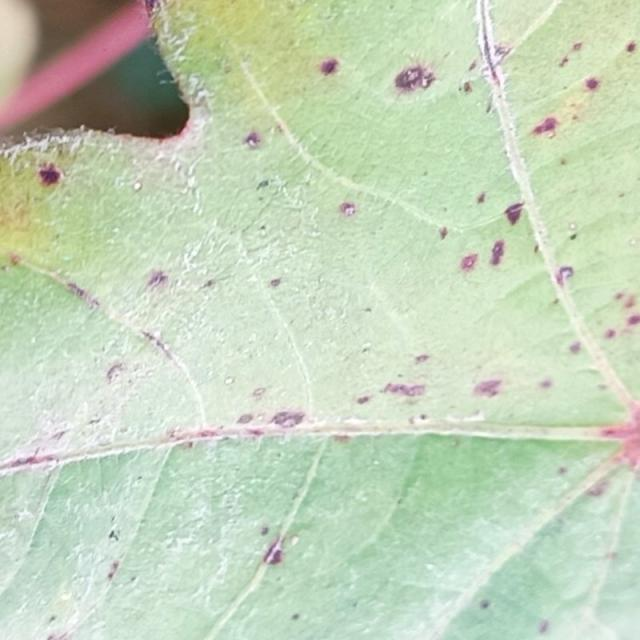Bacterial_Blight: (531, 82, 603, 141), (462, 38, 530, 99), (603, 402, 640, 471), (393, 57, 440, 107), (138, 328, 181, 362), (263, 533, 293, 566), (65, 281, 100, 307), (556, 41, 585, 69), (382, 381, 427, 398), (270, 410, 306, 428), (37, 161, 63, 185), (474, 378, 503, 398), (586, 476, 611, 497), (531, 117, 557, 137), (145, 268, 169, 289), (615, 292, 638, 312), (489, 239, 506, 266), (554, 264, 575, 285), (504, 204, 523, 226), (459, 252, 479, 272), (106, 362, 125, 383), (242, 130, 262, 149), (319, 57, 340, 75), (493, 43, 513, 59), (106, 560, 121, 580), (193, 428, 220, 439), (339, 200, 357, 216), (584, 76, 600, 90), (236, 413, 254, 424), (568, 340, 582, 354), (624, 40, 637, 54), (9, 253, 23, 266), (256, 178, 271, 190), (414, 353, 430, 364), (538, 619, 549, 635), (252, 387, 267, 398), (538, 378, 553, 389), (47, 633, 70, 640), (438, 226, 449, 239), (108, 529, 119, 542), (202, 279, 216, 289), (356, 395, 370, 405), (270, 277, 282, 288), (604, 329, 616, 340), (559, 55, 570, 67), (479, 599, 490, 610), (476, 192, 486, 204), (463, 81, 472, 94), (614, 292, 625, 302), (557, 465, 568, 475), (632, 314, 640, 326), (572, 42, 582, 51), (260, 525, 269, 535), (569, 232, 578, 241), (291, 613, 300, 621), (559, 158, 567, 166)
Cotton: (0, 0, 639, 639)
